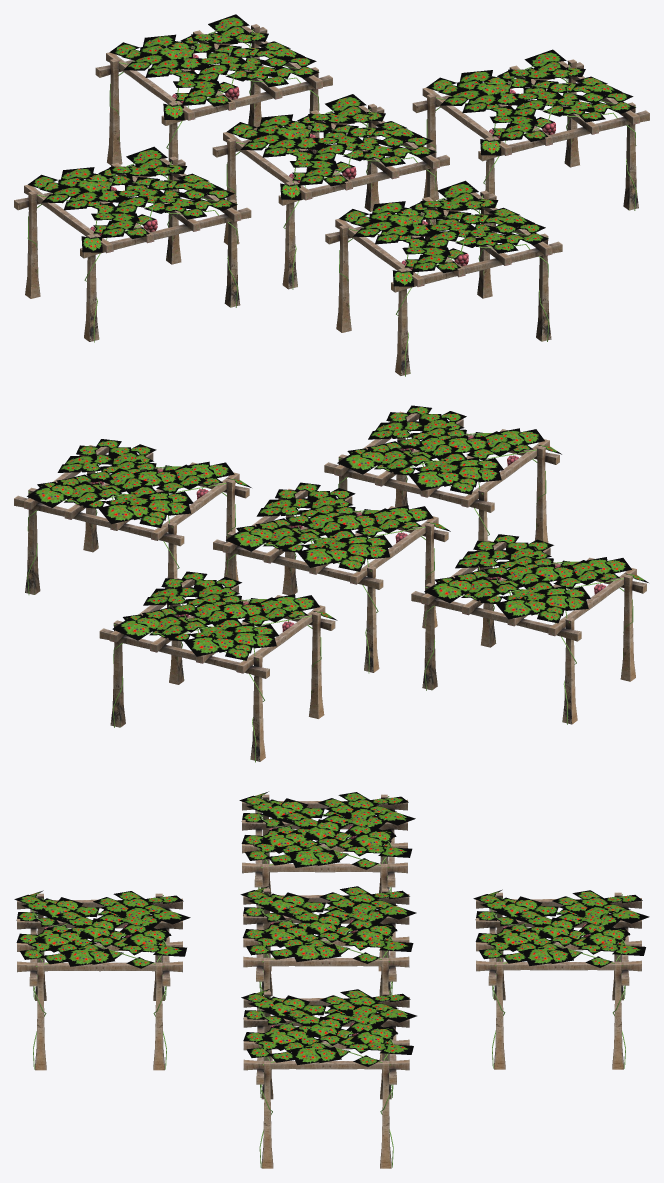
Rendered from Wine.glb.
3 renders of one model, top to bottom at view 1: azimuth 30°, elevation 25°; view 2: azimuth 150°, elevation 25°; view 3: azimuth 270°, elevation 25°, orthographic.
Visible parts, largest first — view 1: Cube.003 (×5); view 2: Cube.003 (×5); view 3: Cube.003 (×5).
Boxes of the visible parts, x1,y1,x2,y2 form: Cube.003 (×5): (14,14,649,376); Cube.003 (×5): (14,405,648,762); Cube.003 (×5): (14,791,649,1168).
Size of the model in its own units: 20.67 by 4.01 by 19.87.
Materials: 6 (6 with a texture image).
